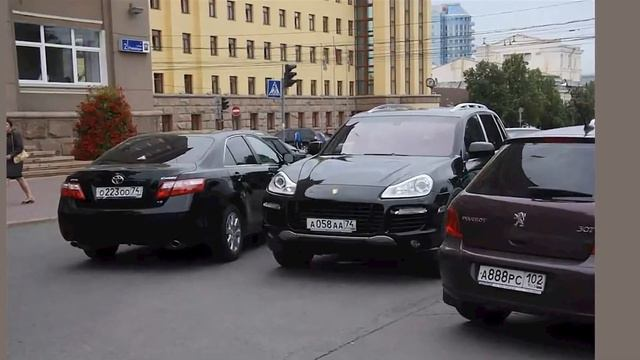number_plate: (475, 264, 555, 297), (305, 217, 365, 233), (94, 184, 144, 203)
